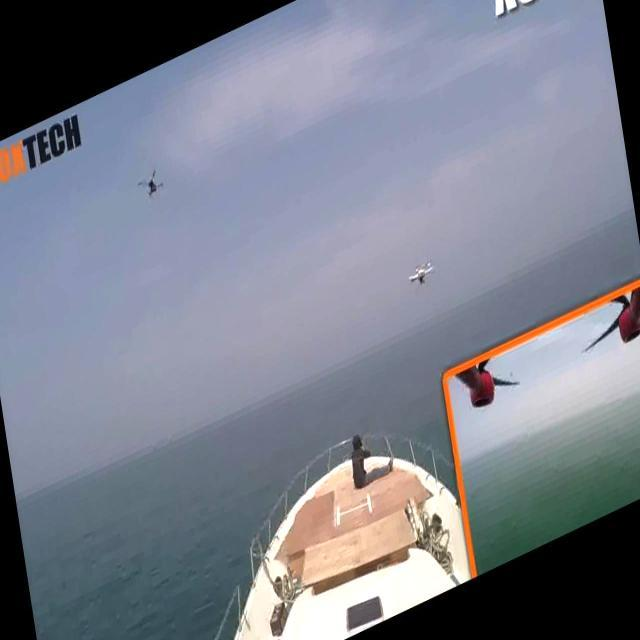drone: (131, 154, 173, 211), (402, 246, 441, 298)
